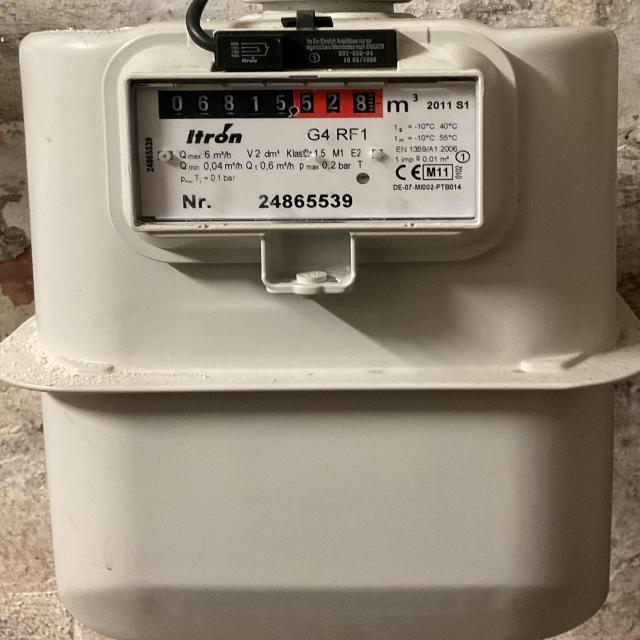gaz_meter: (125, 79, 483, 224)
indication: (158, 90, 384, 120)
